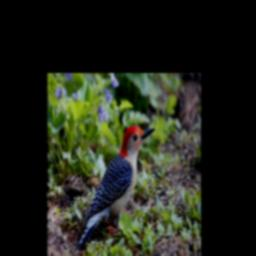Woodpecker: (76, 124, 156, 251)
